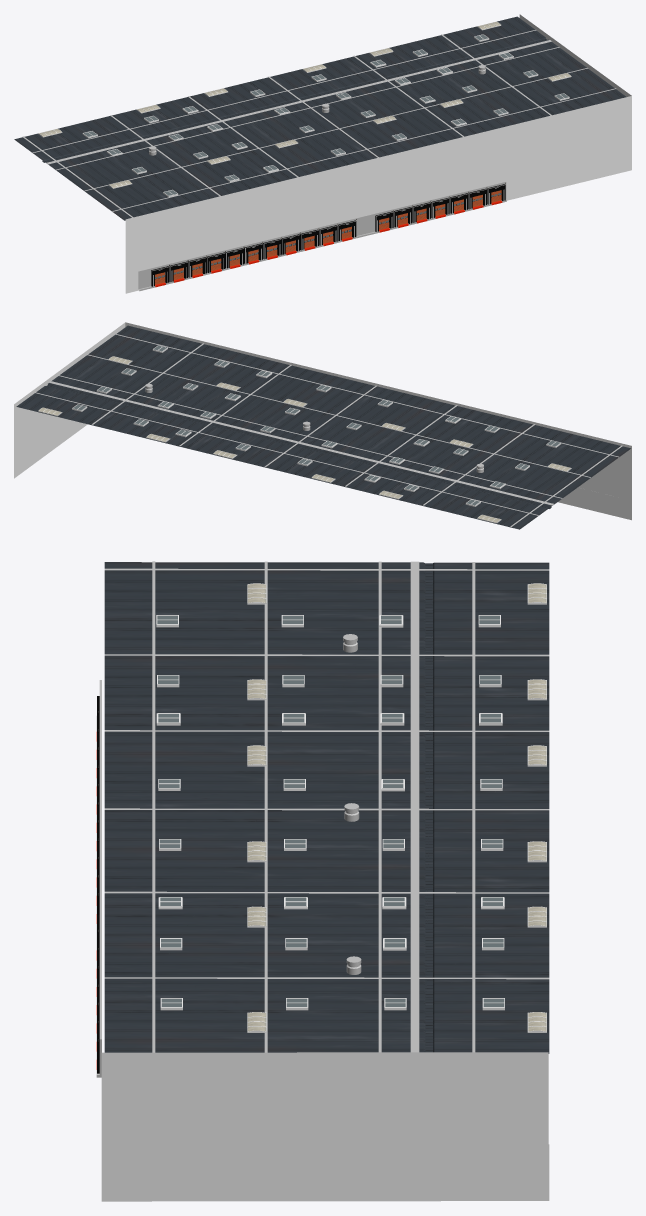
The model's file is SM_TNTBuilding_Part01.fbx.
The picture shows the model from 3 angles, top to bottom: view 1: azimuth 30°, elevation 25°; view 2: azimuth 150°, elevation 25°; view 3: azimuth 270°, elevation 25°; orthographic projection. The views are drawn at different scales.
Visible parts, largest first — view 1: SM_TNTBuilding_Part01_LOD0; view 2: SM_TNTBuilding_Part01_LOD0; view 3: SM_TNTBuilding_Part01_LOD0.
Boxes of the visible parts, x1=… form: SM_TNTBuilding_Part01_LOD0: x1=14, y1=14, x2=631, y2=293; SM_TNTBuilding_Part01_LOD0: x1=14, y1=322, x2=631, y2=529; SM_TNTBuilding_Part01_LOD0: x1=96, y1=561, x2=549, y2=1201.
Size of what is drawn, in the model's own units: 12337 by 1830 by 4772.
